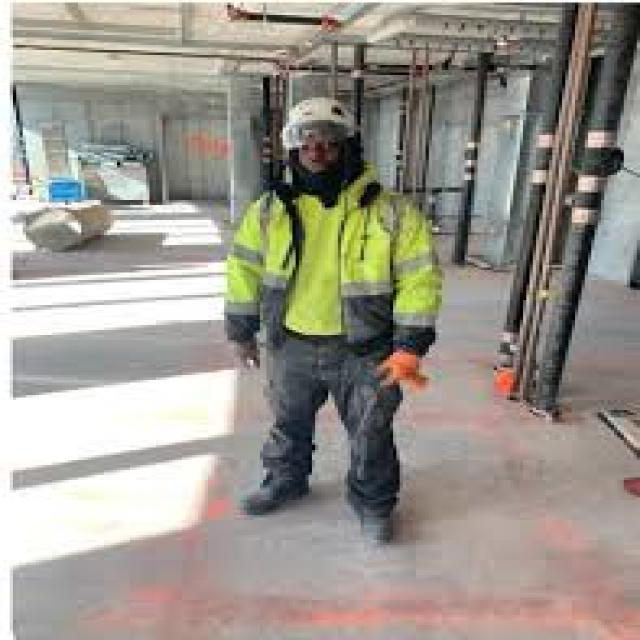Reflective-Jacket: (205, 172, 461, 358)
Safety-Helmet: (263, 88, 374, 148)
